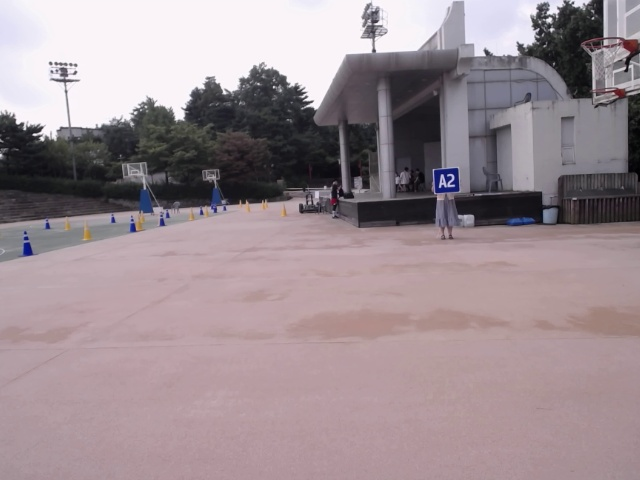delivery_a2: (433, 167, 460, 194)
